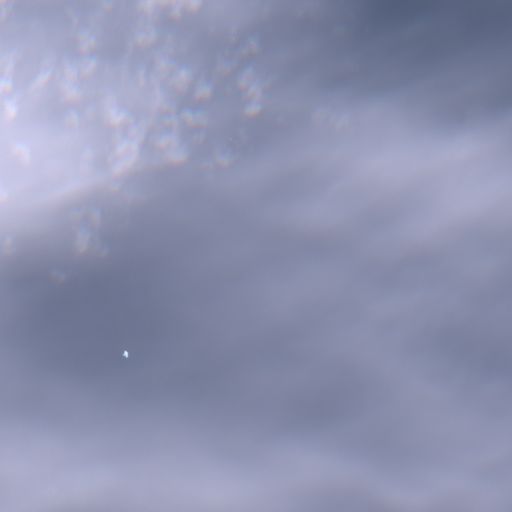Iceberg: (123, 351, 127, 357)
